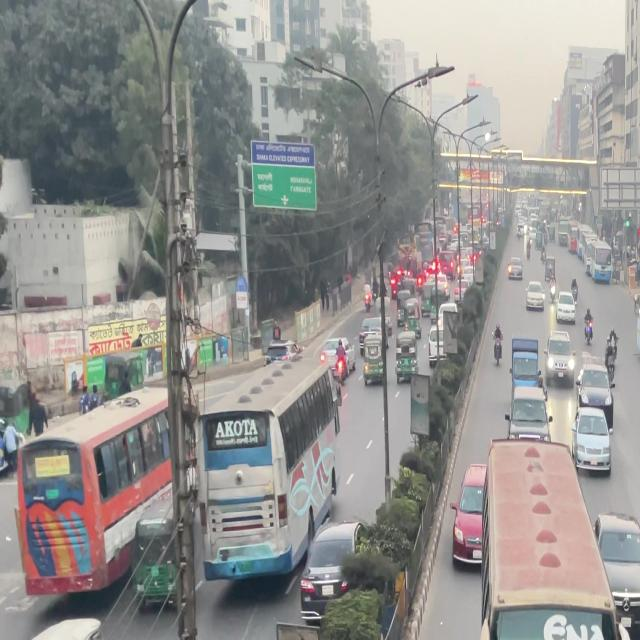bus: (18, 387, 183, 598), (198, 358, 343, 586), (478, 434, 632, 640)
car: (594, 516, 640, 633), (298, 528, 358, 610), (573, 410, 614, 476), (510, 397, 552, 441), (578, 370, 614, 416), (589, 262, 616, 284)
rickshaw: (16, 615, 112, 640)
van: (511, 337, 543, 387)
